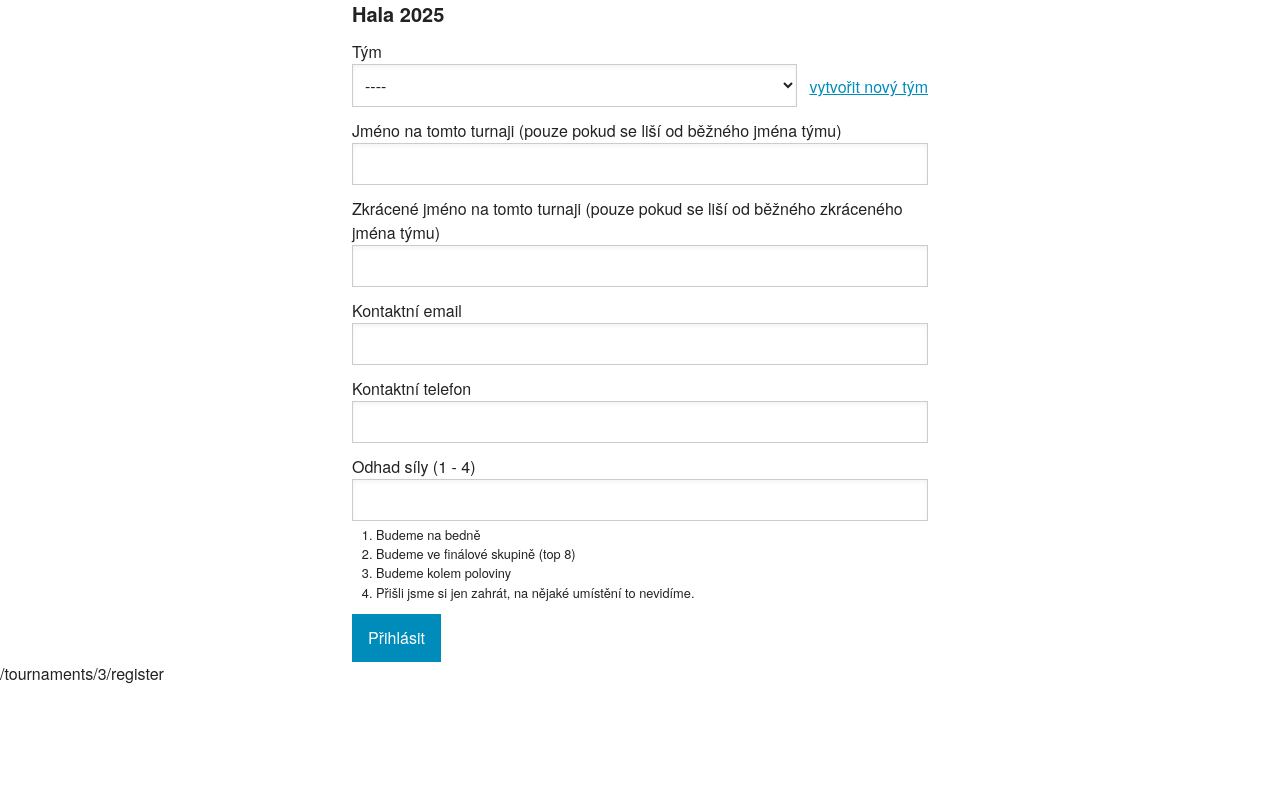
new team dialog requires a name
What coordinates should you click on to do the following:
click the button "vytvořit nový tým"
I would click on:
 (869, 91)
Its box is [809,75,928,107].
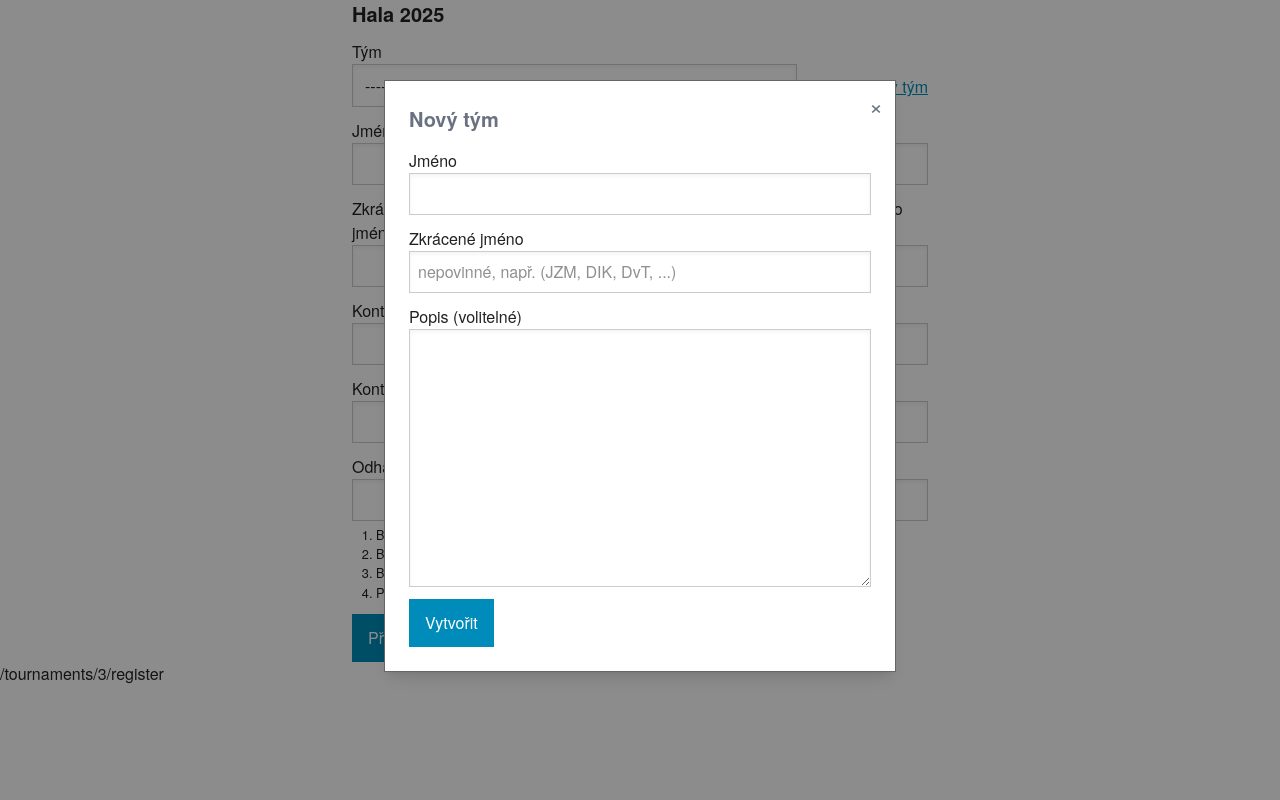
What coordinates should you click on to do the following:
click the button "Vytvořit"
I would click on:
 (451, 623)
Its box is [409,599,494,647].
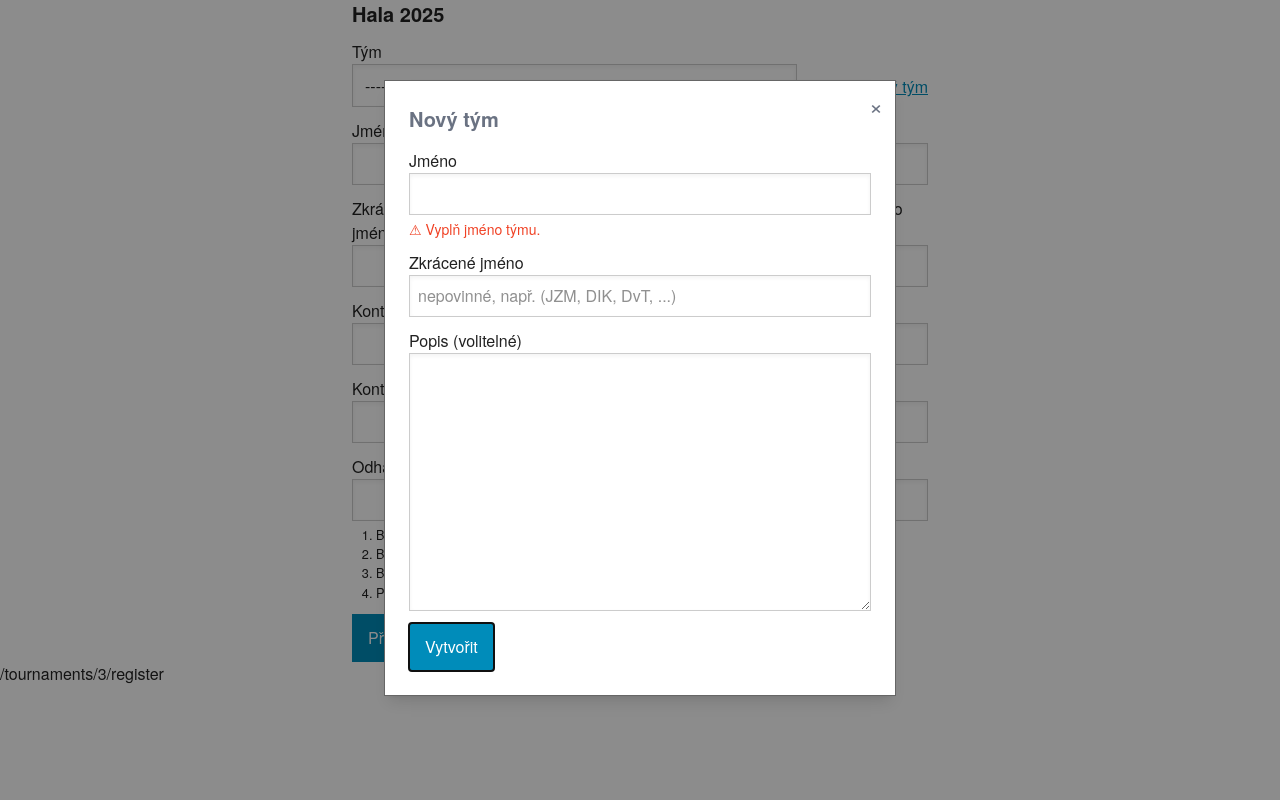
Result: the text "⚠ Vyplň jméno týmu." is shown at [409,219,540,239]
